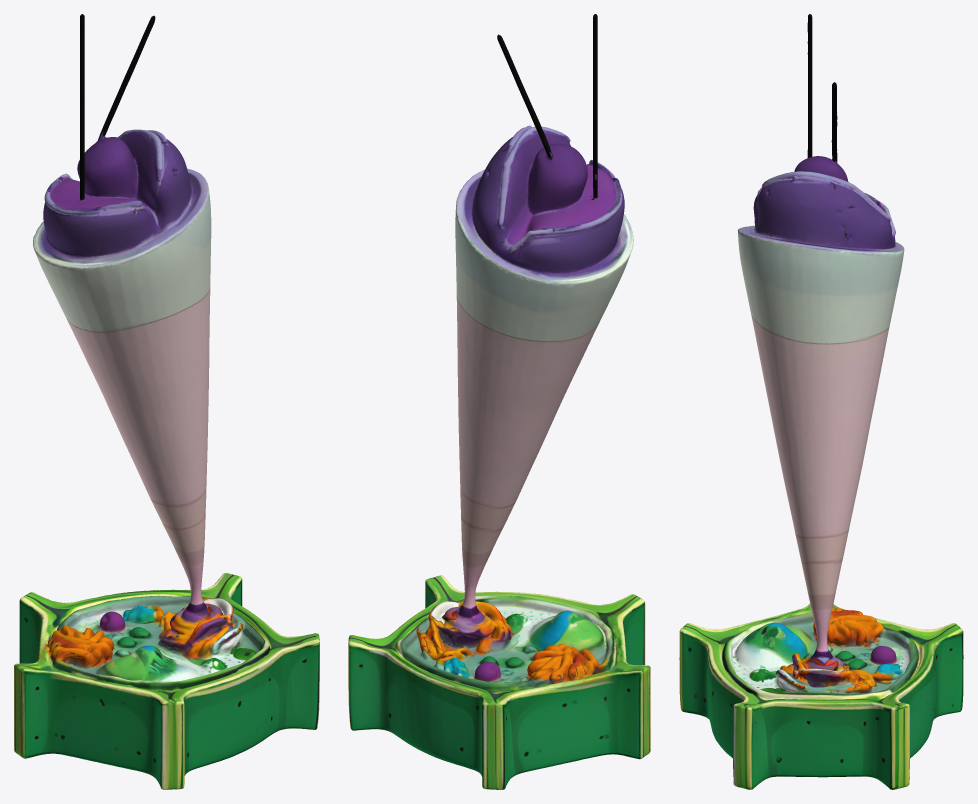
The model's file is e6a2af64-6301-4aba-acdb-5e345ca372d2.glb.
The picture shows the model from 3 angles, left to right: view 1: azimuth 30°, elevation 25°; view 2: azimuth 150°, elevation 25°; view 3: azimuth 270°, elevation 25°; orthographic projection. The views are drawn at different scales.
Parts seen in each view (by area): view 1: tripo_node_5099c38a-24f5-458d-8af3-26161acd1569; view 2: tripo_node_5099c38a-24f5-458d-8af3-26161acd1569; view 3: tripo_node_5099c38a-24f5-458d-8af3-26161acd1569.
Part boxes in pixels (box(x1,y1,x2,y2)): tripo_node_5099c38a-24f5-458d-8af3-26161acd1569: box(14, 14, 319, 789); tripo_node_5099c38a-24f5-458d-8af3-26161acd1569: box(348, 14, 650, 789); tripo_node_5099c38a-24f5-458d-8af3-26161acd1569: box(679, 14, 963, 789).
Size of the model in its own units: 0.3735 by 1 by 0.376.
Materials: 1 (1 with a texture image).
